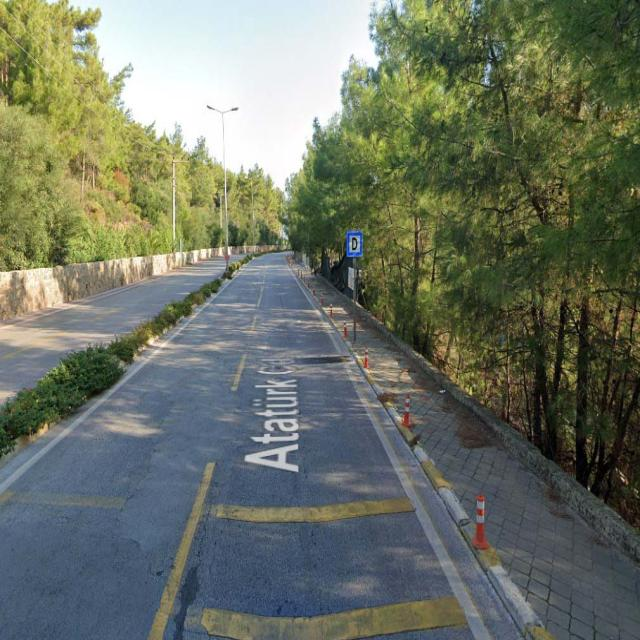durak: (346, 232, 363, 254)
